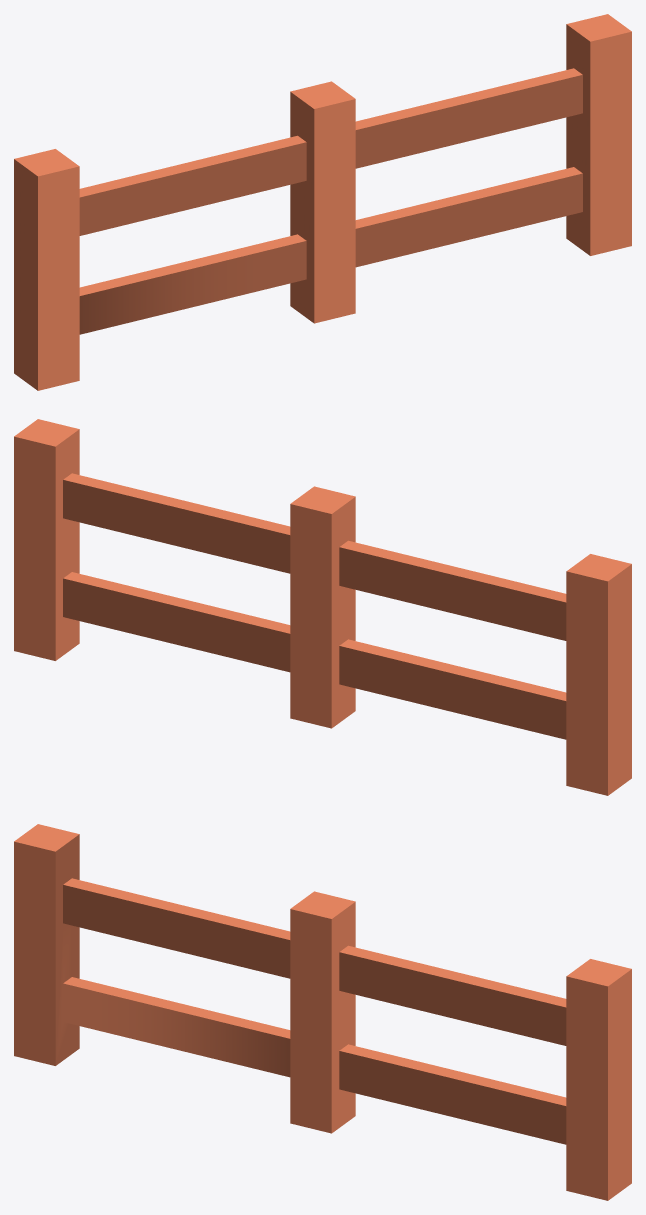
File: fence_simpleCenter.dae
The picture shows the model from 3 angles, top to bottom: view 1: azimuth 30°, elevation 25°; view 2: azimuth 150°, elevation 25°; view 3: azimuth 330°, elevation 25°; orthographic projection.
Visible parts, largest first — view 1: fence_simpleCenter; view 2: fence_simpleCenter; view 3: fence_simpleCenter.
Part boxes in pixels (x1,y1,x2,y2): fence_simpleCenter: (14,14,631,390); fence_simpleCenter: (14,419,631,795); fence_simpleCenter: (14,824,631,1200).
Size of the model in its own units: 1 by 0.345 by 0.07.
